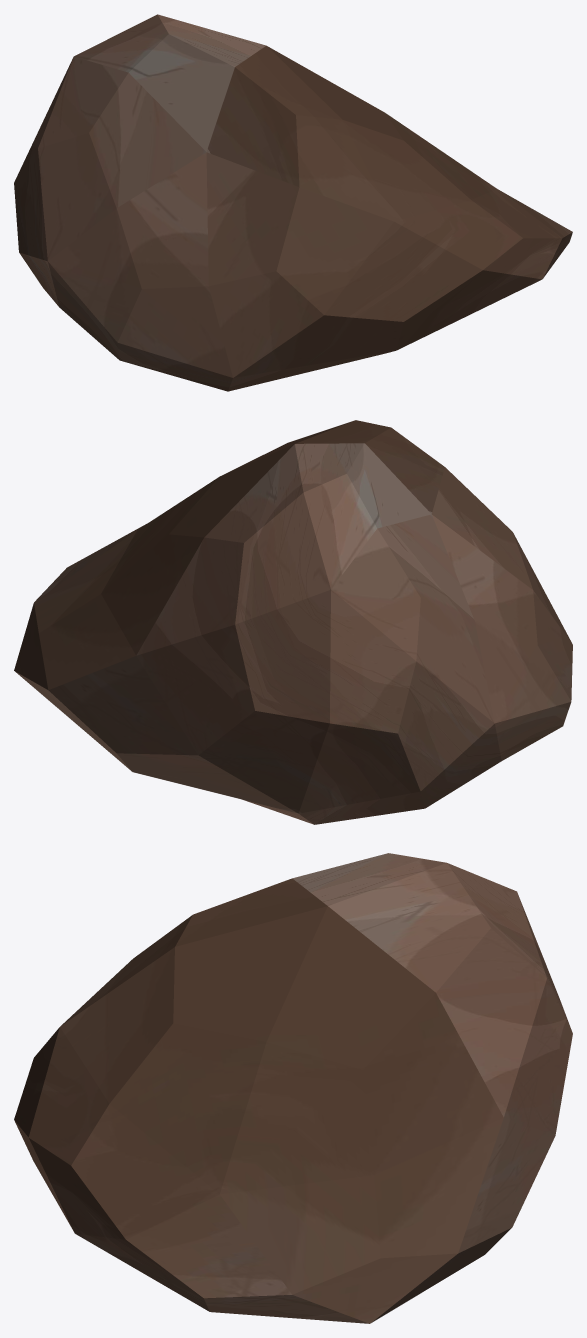
File: Rock 1-4.fbx
3 renders of one model, top to bottom at view 1: azimuth 30°, elevation 25°; view 2: azimuth 150°, elevation 25°; view 3: azimuth 270°, elevation 25°, orthographic. The views are drawn at different scales.
Visible parts, largest first — view 1: Icosphere; view 2: Icosphere; view 3: Icosphere.
Boxes of the visible parts, bbox=[...] form: Icosphere: bbox=[14, 14, 572, 391]; Icosphere: bbox=[14, 420, 572, 824]; Icosphere: bbox=[14, 853, 572, 1323].
Size of the model in its own units: 155 by 91.08 by 142.
